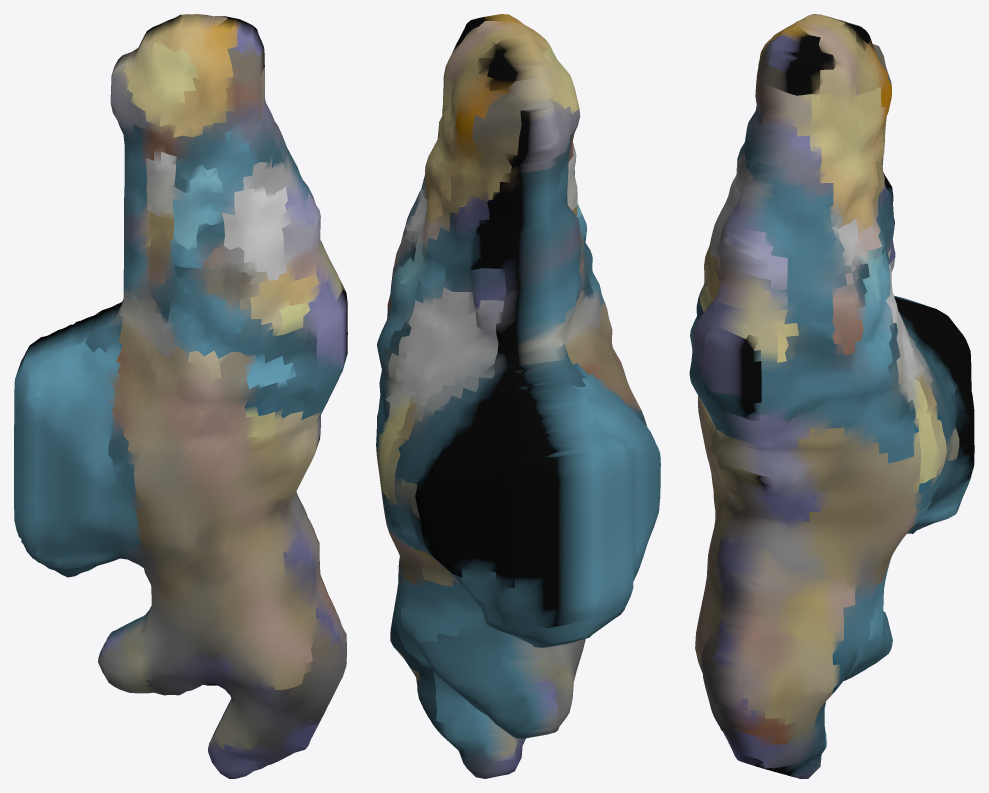
File: allied_engineer.glb
3 views of the same model, side by side, from view 1: azimuth 30°, elevation 25°; view 2: azimuth 150°, elevation 25°; view 3: azimuth 270°, elevation 25° (orthographic). The views are drawn at different scales.
Parts seen in each view (by area): view 1: allied_engineer; view 2: allied_engineer; view 3: allied_engineer.
Boxes of the visible parts, x1,y1,x2,y2 form: allied_engineer: (14, 14, 347, 778); allied_engineer: (376, 14, 660, 778); allied_engineer: (689, 14, 974, 778).
Size of what is drawn, in the model's own units: 0.8392 by 2.23 by 0.7749.
